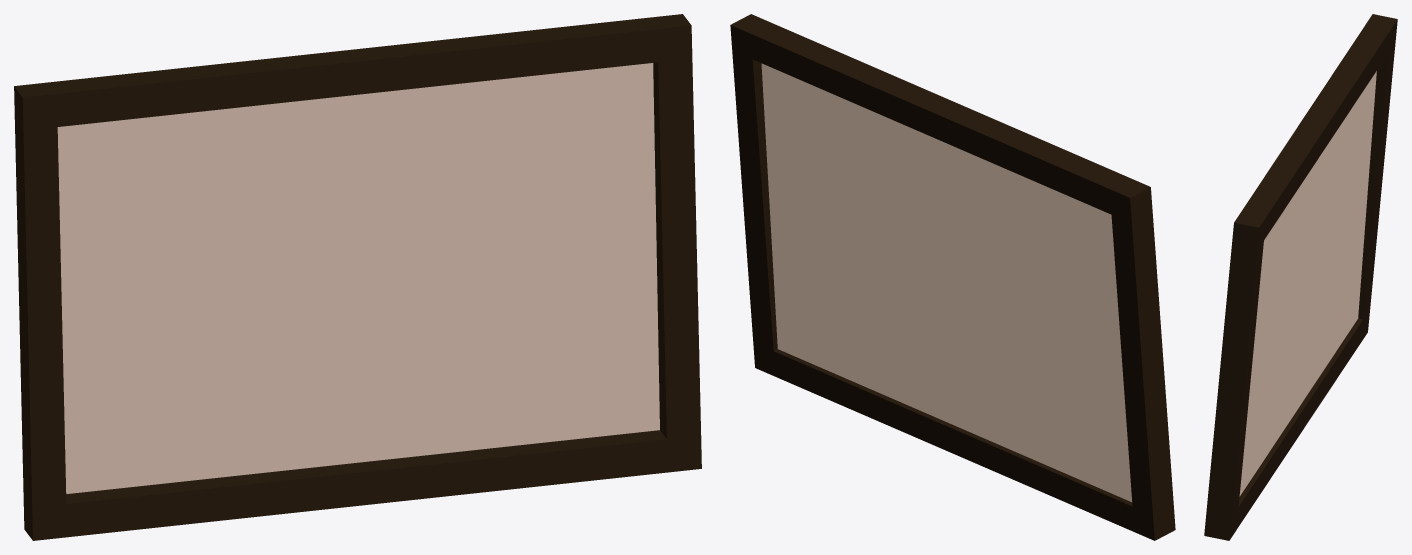
The model's file is FRAME.fbx.
The picture shows the model from 3 angles, left to right: view 1: azimuth 30°, elevation 25°; view 2: azimuth 150°, elevation 25°; view 3: azimuth 270°, elevation 25°; orthographic projection. The views are drawn at different scales.
Parts seen in each view (by area): view 1: FRAME; view 2: FRAME; view 3: FRAME.
Boxes of the visible parts, x1,y1,x2,y2 form: FRAME: [14, 14, 701, 540]; FRAME: [730, 14, 1175, 540]; FRAME: [1204, 14, 1397, 540].
Bounding box in the file's own units: 400 × 276 × 152.
